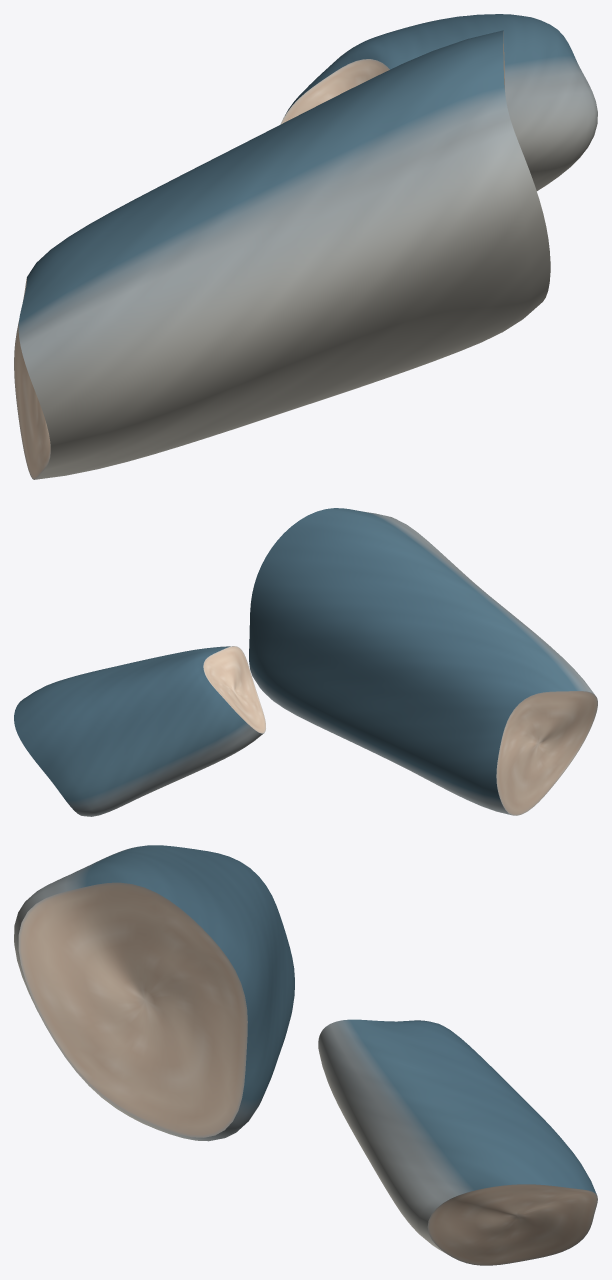
Rendered from jurel-bait-full.glb.
The picture shows the model from 3 angles, top to bottom: view 1: azimuth 30°, elevation 25°; view 2: azimuth 150°, elevation 25°; view 3: azimuth 270°, elevation 25°; orthographic projection. The views are drawn at different scales.
Parts seen in each view (by area): view 1: Piel (×2), Corte_A (×2); view 2: Piel (×2), Corte_A (×2); view 3: Corte_B (×2), Piel (×2).
Part boxes in pixels (x1=…): Piel (×2): x1=18, y1=14, x2=597, y2=479; Corte_A (×2): x1=14, y1=59, x2=389, y2=479; Piel (×2): x1=14, y1=508, x2=594, y2=816; Corte_A (×2): x1=203, y1=646, x2=597, y2=815; Corte_B (×2): x1=18, y1=882, x2=597, y2=1265; Piel (×2): x1=14, y1=845, x2=596, y2=1255.
Size of the model in its own units: 0.375 by 0.1796 by 0.3051.
